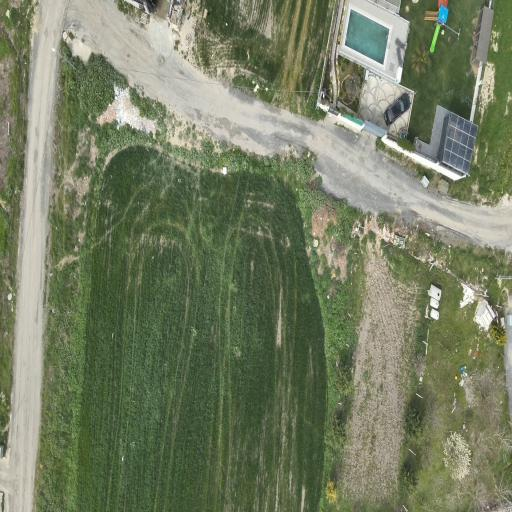car: (384, 93, 410, 125)
